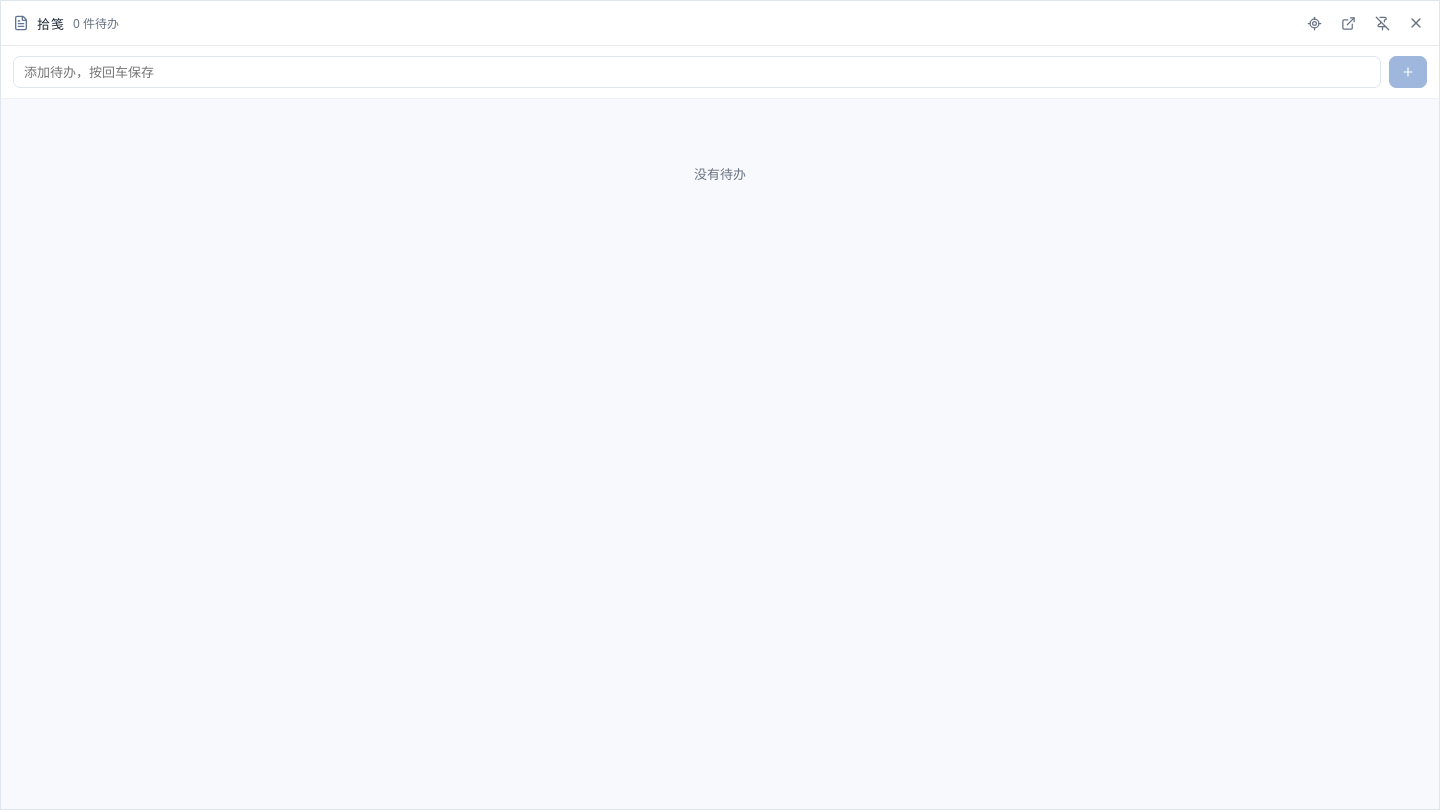
Test case: desktop todo panel in browser-preview mode › adds, completes, reopens and archives records from the panel
This screenshot has width=1440, height=810.
Type "面板快速记录" into the field named "快速添加待办" at (697, 72), box [13, 56, 1381, 88]
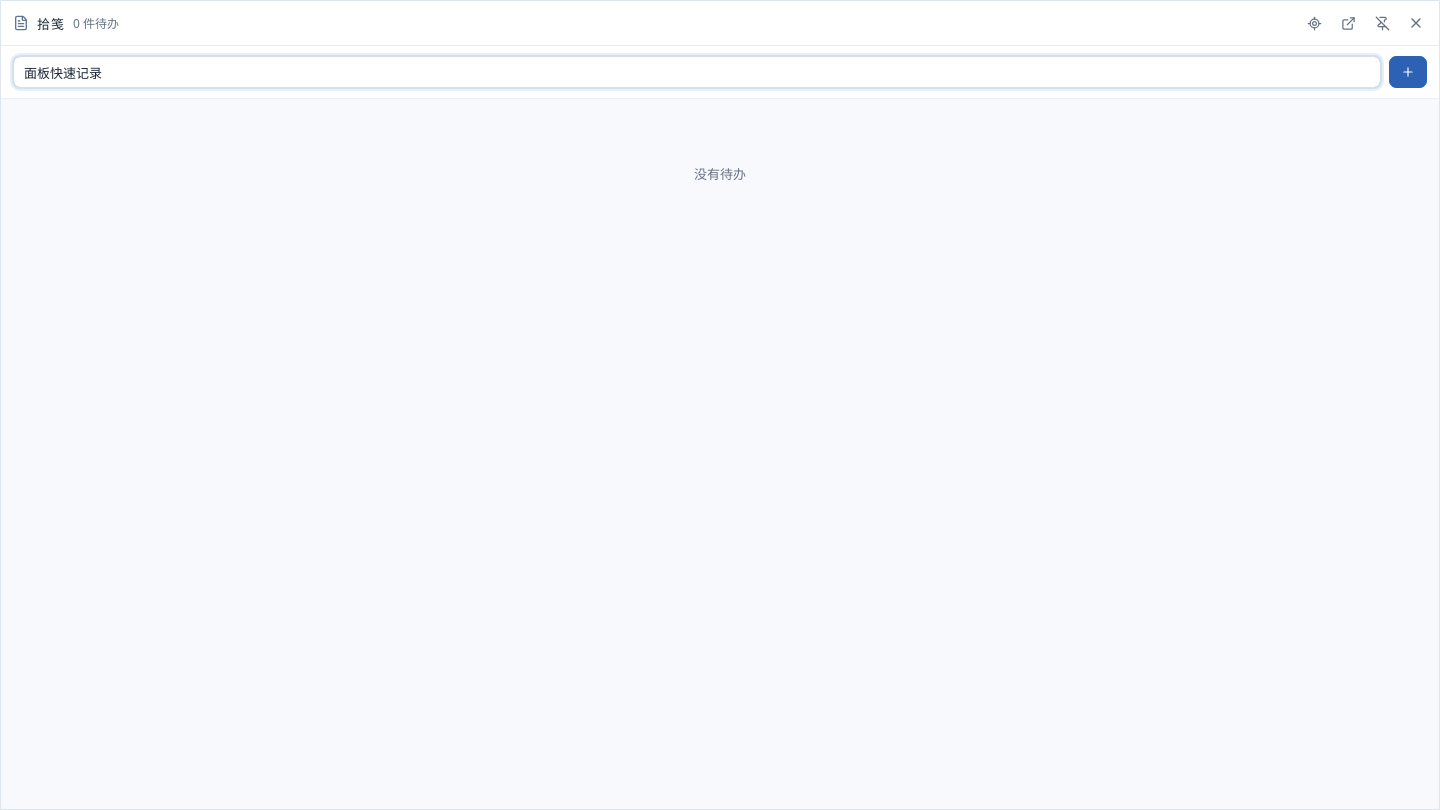
Press Enter
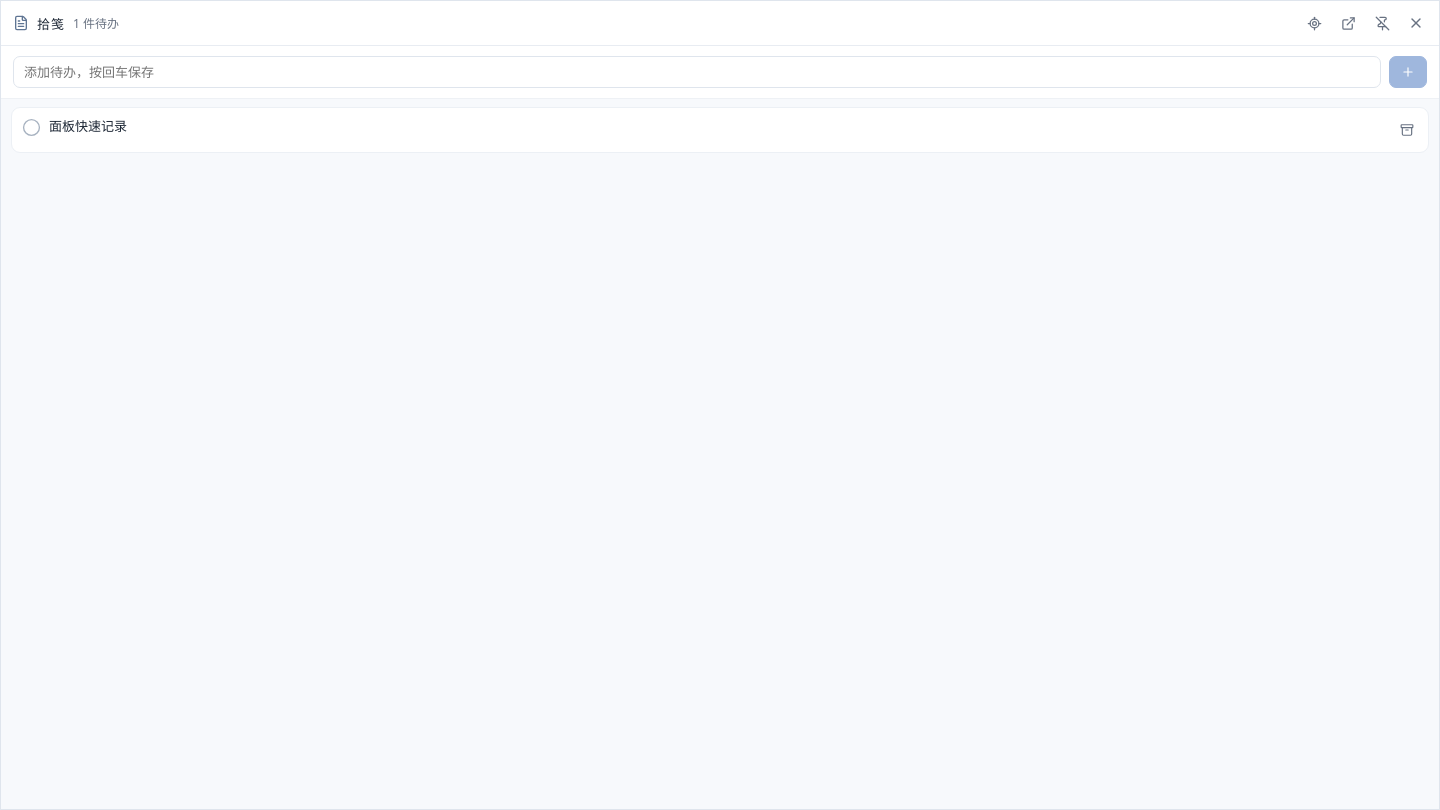
Result: the text "面板快速记录" is shown at [49, 117, 127, 135]
Result: the text "1 件待办" is shown at [73, 14, 119, 32]
Click the button named "完成：面板快速记录" at (32, 128), box [22, 118, 41, 137]
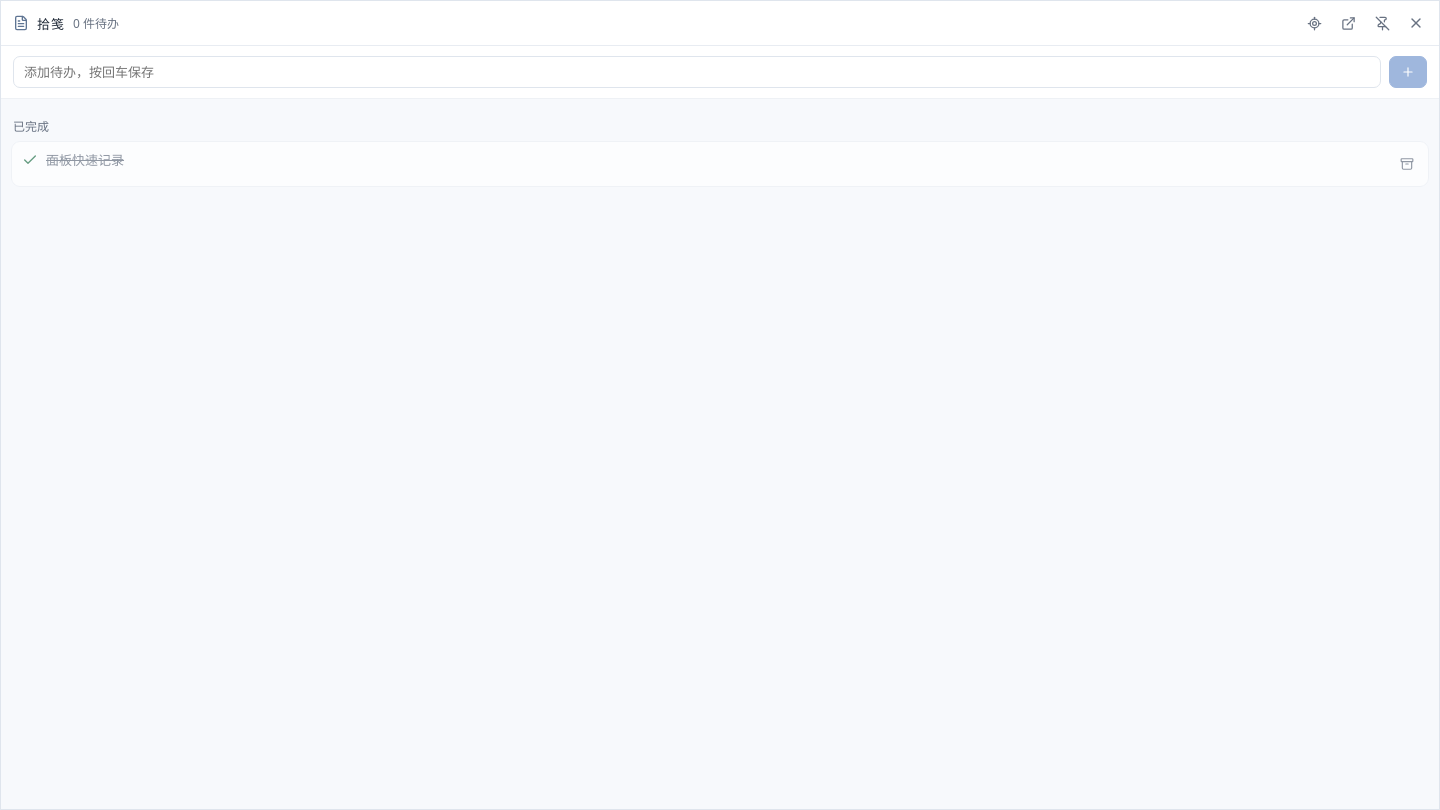
Result: the text "已完成" is shown at [13, 118, 49, 135]
Click the button named "重新打开：面板快速记录" at (30, 160), box [22, 152, 38, 168]
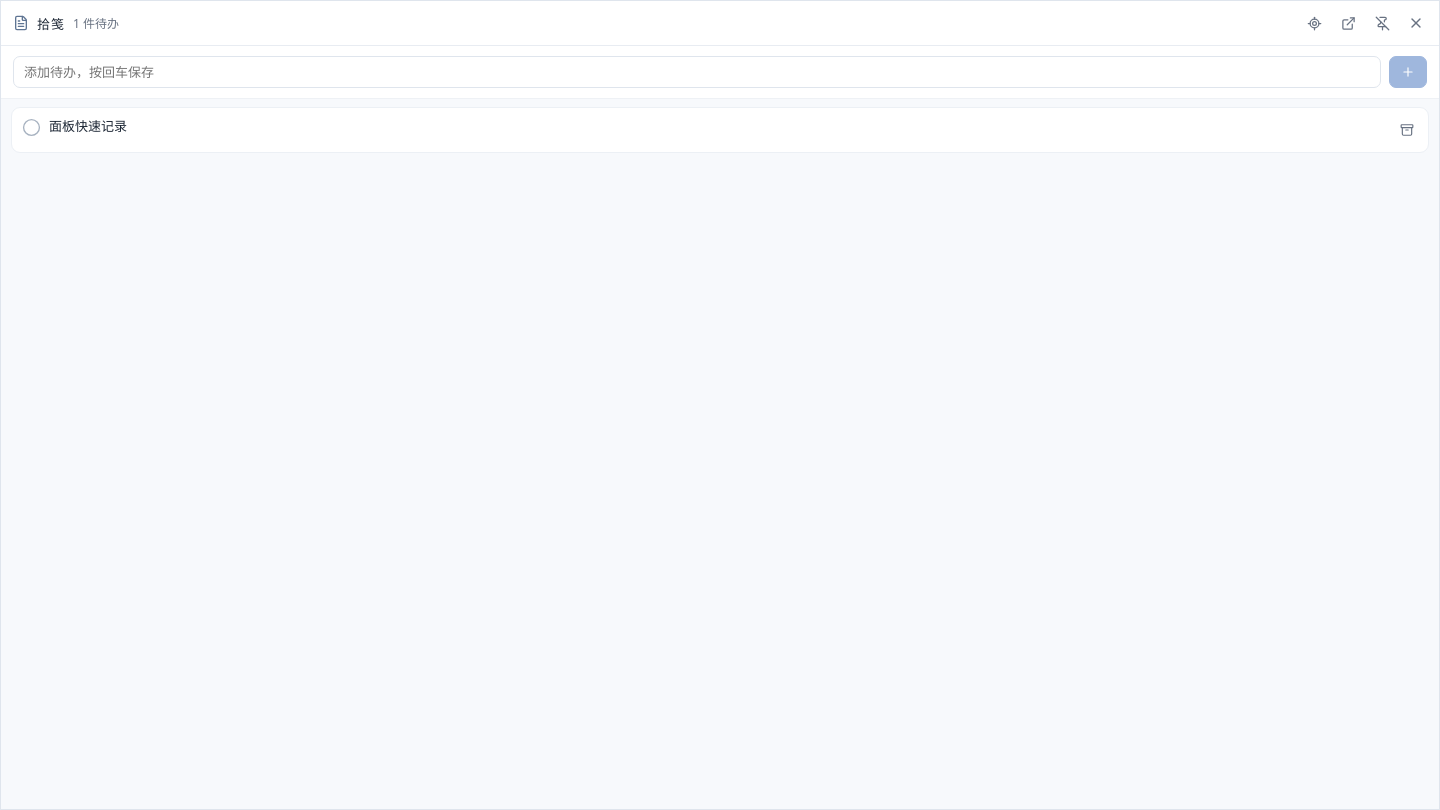
Result: the text "面板快速记录" is shown at [49, 117, 127, 135]
Click the button named "归档：面板快速记录" at (1407, 130), box [1394, 117, 1420, 143]
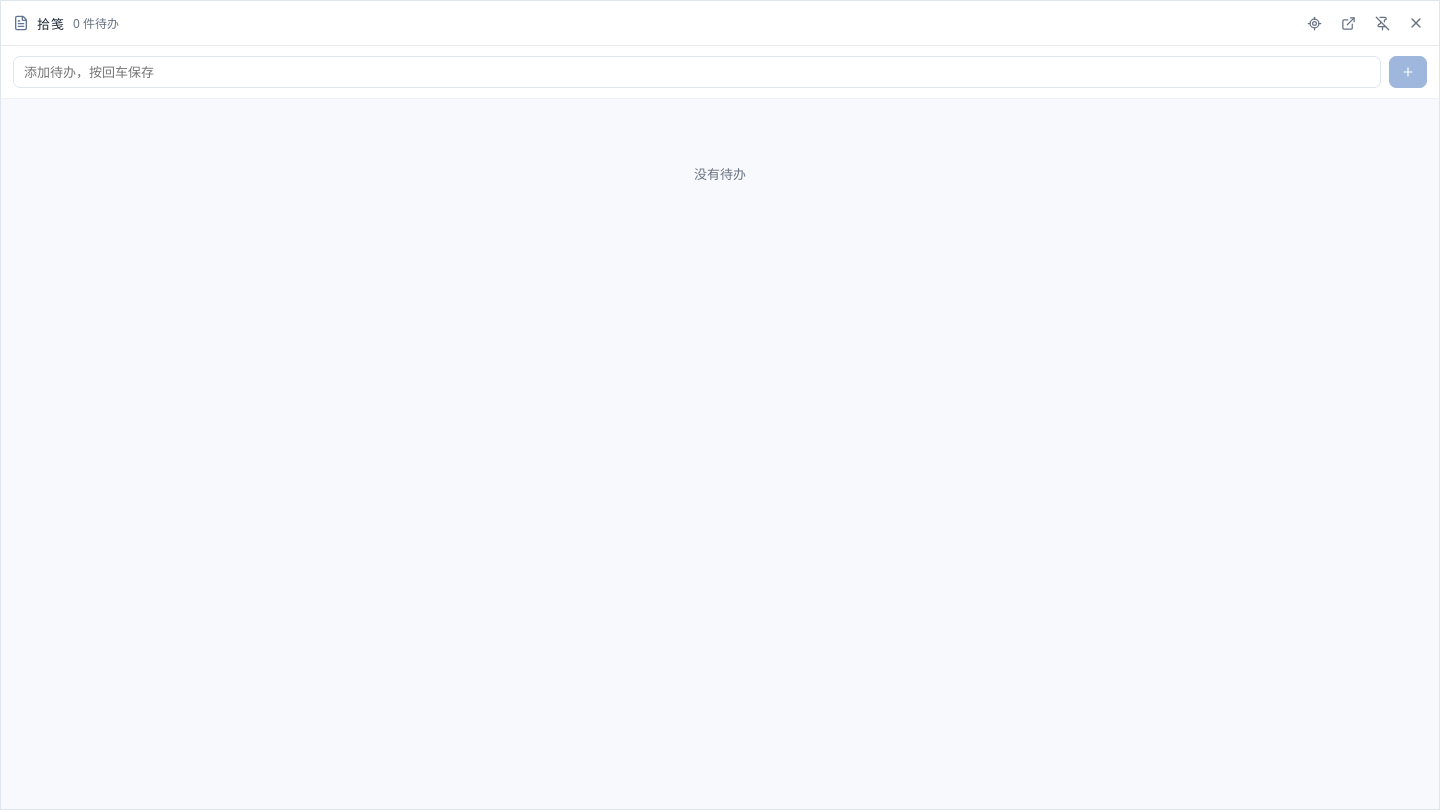
Result: the text "没有待办" is shown at [694, 164, 746, 182]
